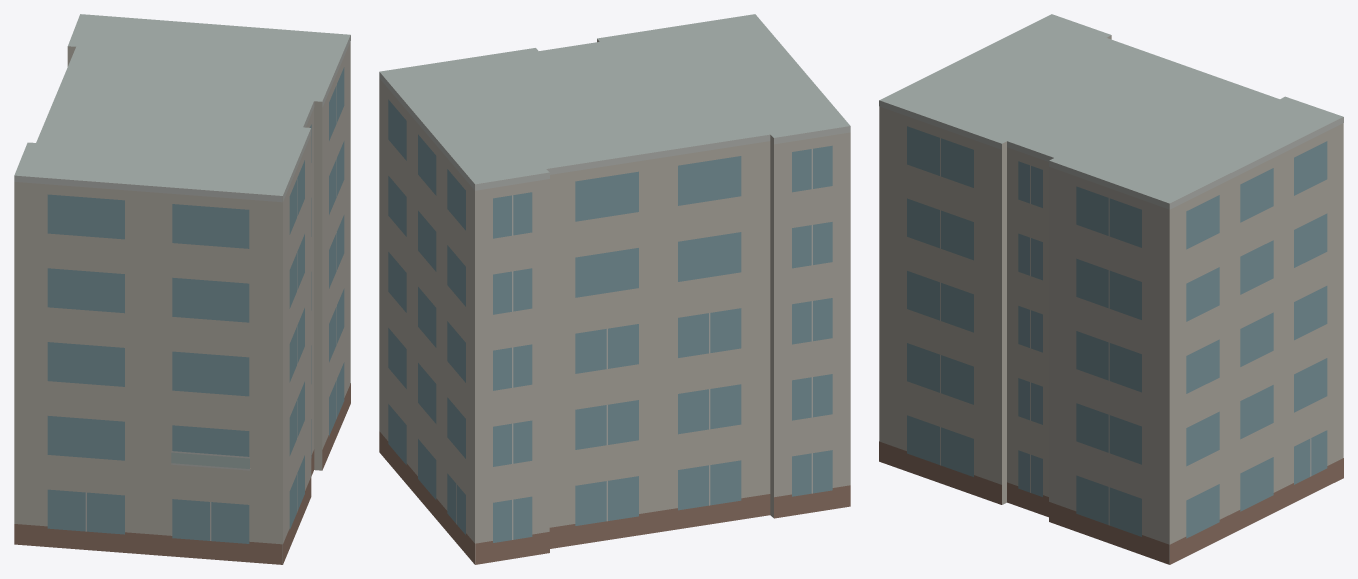
The model's file is survey-upis-32944150.glb.
The picture shows the model from 3 angles, left to right: view 1: azimuth 30°, elevation 25°; view 2: azimuth 150°, elevation 25°; view 3: azimuth 270°, elevation 25°; orthographic projection. The views are drawn at different scales.
Visible parts, largest first — view 1: survey-upis-32944150.tmp; view 2: survey-upis-32944150.tmp; view 3: survey-upis-32944150.tmp.
Boxes of the visible parts, x1,y1,x2,y2 form: survey-upis-32944150.tmp: [14, 14, 350, 564]; survey-upis-32944150.tmp: [379, 14, 850, 564]; survey-upis-32944150.tmp: [879, 14, 1343, 564].
Size of the model in its own units: 16.21 by 14.4 by 16.79.
